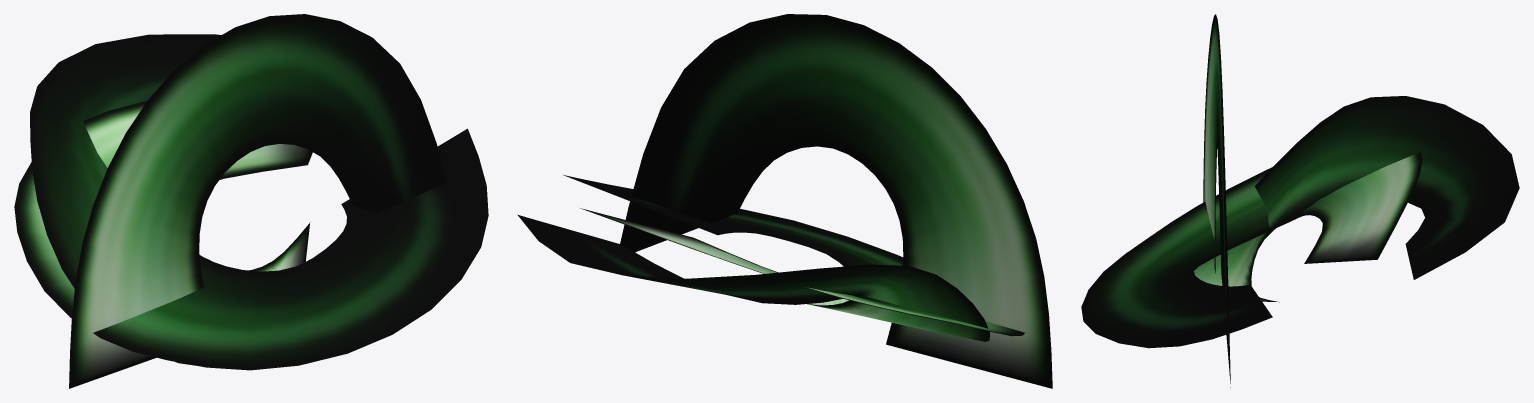
File: effect_xuhuang_1.FBX
The picture shows the model from 3 angles, left to right: view 1: azimuth 30°, elevation 25°; view 2: azimuth 150°, elevation 25°; view 3: azimuth 270°, elevation 25°; orthographic projection. The views are drawn at different scales.
Visible parts, largest first — view 1: effect_xuhuang_3, effect_xuhuang_2, effect_xuhuang_1; view 2: effect_xuhuang_3, effect_xuhuang_1, effect_xuhuang_2; view 3: effect_xuhuang_1, effect_xuhuang_2, effect_xuhuang_3.
Boxes of the visible parts, left/top/right/bottom form: effect_xuhuang_3: left=69, top=14, right=446, bottom=388; effect_xuhuang_2: left=14, top=101, right=488, bottom=370; effect_xuhuang_1: left=30, top=34, right=310, bottom=365; effect_xuhuang_3: left=620, top=14, right=1052, bottom=388; effect_xuhuang_1: left=517, top=214, right=990, bottom=341; effect_xuhuang_2: left=563, top=175, right=1024, bottom=336; effect_xuhuang_1: left=1194, top=96, right=1519, bottom=302; effect_xuhuang_2: left=1081, top=152, right=1422, bottom=348; effect_xuhuang_3: left=1203, top=14, right=1230, bottom=387.
Bounding box in the file's own units: 403 × 279 × 371.
Materials: 1 (1 with a texture image).
